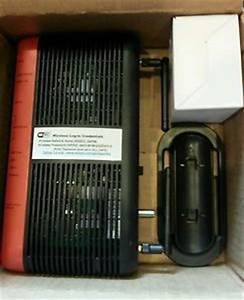Verizon Router: (1, 30, 143, 277)
